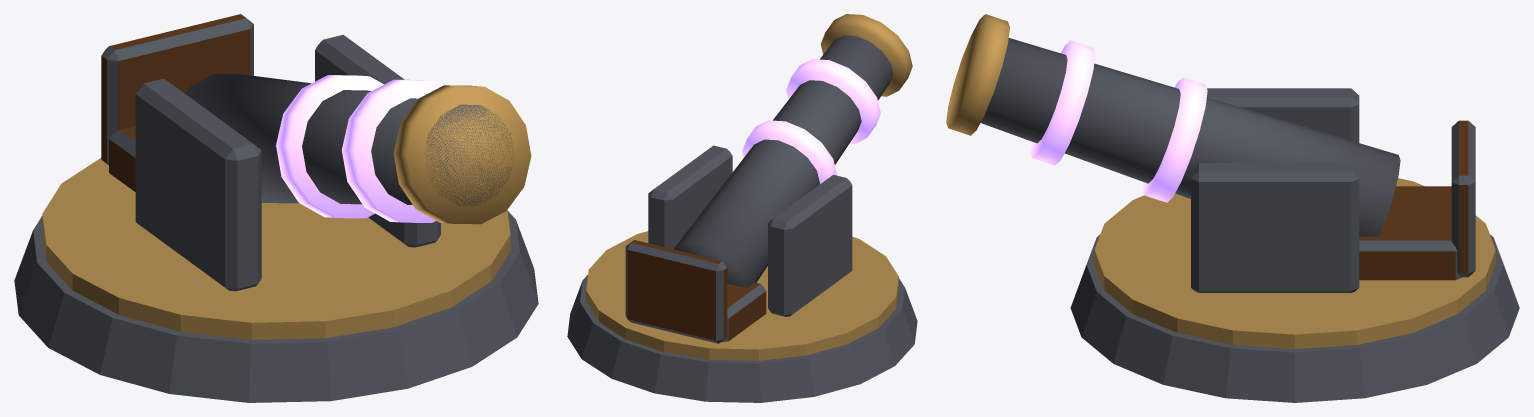
The model's file is turret_head.glb.
The picture shows the model from 3 angles, left to right: view 1: azimuth 30°, elevation 25°; view 2: azimuth 150°, elevation 25°; view 3: azimuth 270°, elevation 25°; orthographic projection. The views are drawn at different scales.
Parts seen in each view (by area): view 1: TurretHead; view 2: TurretHead; view 3: TurretHead.
Part boxes in pixels (x1,y1,x2,y2): TurretHead: [14, 14, 538, 402]; TurretHead: [567, 14, 917, 402]; TurretHead: [946, 14, 1519, 402].
Size of the model in its own units: 1.12 by 0.7924 by 1.43.
